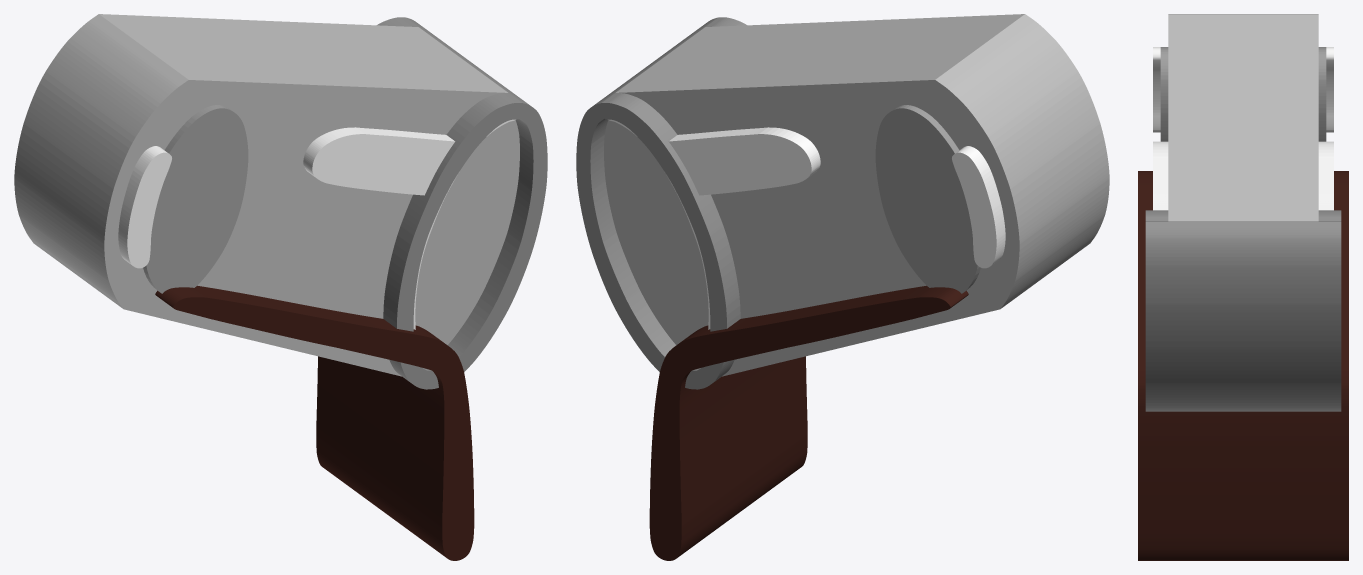
The model's file is U+1FAD7.obj.
3 views of the same model, side by side, from view 1: azimuth 30°, elevation 25°; view 2: azimuth 150°, elevation 25°; view 3: azimuth 270°, elevation 25° (orthographic). The views are drawn at different scales.
Parts seen in each view (by area): view 1: U+1FAD7_layer00_obj00, U+1FAD7_layer04_obj00, U+1FAD7_layer01_obj00, U+1FAD7_layer03_obj00, U+1FAD7_layer03_obj01, U+1FAD7_layer02_obj02, U+1FAD7_layer02_obj01; view 2: U+1FAD7_layer00_obj00, U+1FAD7_layer04_obj00, U+1FAD7_layer01_obj00, U+1FAD7_layer03_obj00, U+1FAD7_layer03_obj01, U+1FAD7_layer02_obj02, U+1FAD7_layer02_obj01; view 3: U+1FAD7_layer03_obj00, U+1FAD7_layer04_obj00, U+1FAD7_layer00_obj00, U+1FAD7_layer02_obj02, U+1FAD7_layer01_obj00, U+1FAD7_layer02_obj01, U+1FAD7_layer03_obj01.
Boxes of the visible parts, x1,y1,x2,y2 form: U+1FAD7_layer00_obj00: (14,14,519,376); U+1FAD7_layer04_obj00: (155,285,474,560); U+1FAD7_layer01_obj00: (143,105,248,293); U+1FAD7_layer03_obj00: (406,17,547,389); U+1FAD7_layer03_obj01: (377,17,521,389); U+1FAD7_layer02_obj02: (303,127,455,195); U+1FAD7_layer02_obj01: (118,146,171,268); U+1FAD7_layer00_obj00: (604,14,1109,376); U+1FAD7_layer04_obj00: (649,285,968,560); U+1FAD7_layer01_obj00: (875,105,980,293); U+1FAD7_layer03_obj00: (576,17,717,389); U+1FAD7_layer03_obj01: (602,17,746,389); U+1FAD7_layer02_obj02: (668,127,820,195); U+1FAD7_layer02_obj01: (952,146,1005,268); U+1FAD7_layer03_obj00: (1145,221,1341,411); U+1FAD7_layer04_obj00: (1138,171,1348,560); U+1FAD7_layer00_obj00: (1168,14,1318,221); U+1FAD7_layer02_obj02: (1153,141,1333,210); U+1FAD7_layer01_obj00: (1160,47,1326,141); U+1FAD7_layer02_obj01: (1153,47,1333,132); U+1FAD7_layer03_obj01: (1145,210,1341,221).
Size of the model in its own units: 0.2757 by 0.3242 by 0.14.
